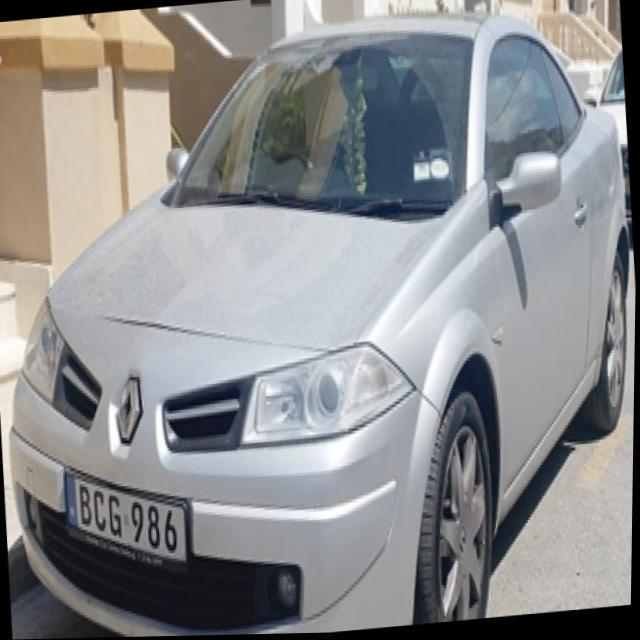license_plate: (62, 456, 196, 574)
